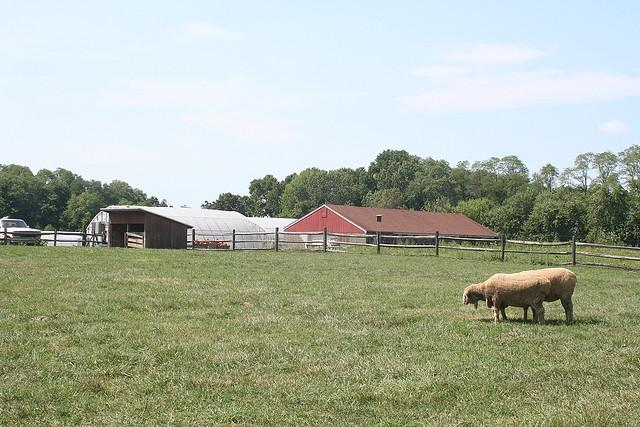pumpkin: (218, 242, 224, 245), (223, 242, 227, 246), (194, 239, 198, 241), (196, 242, 200, 244), (205, 238, 209, 240), (220, 244, 223, 246)
